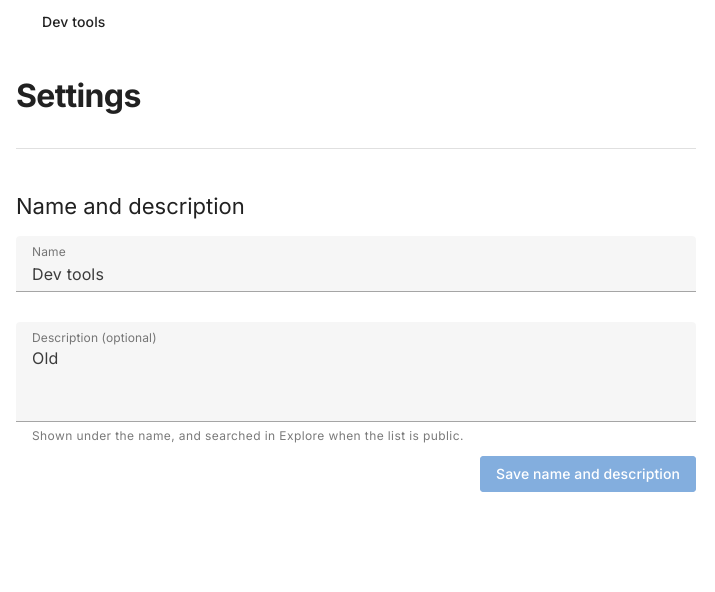
Test: ListSettingsView › explains a save refused because the list changed meanwhile
This screenshot has width=715, height=592.
Replace the text in the text box labelled "Description (optional)" with "Mine" at {"x": 356, "y": 372}, box [16,322,696,422]
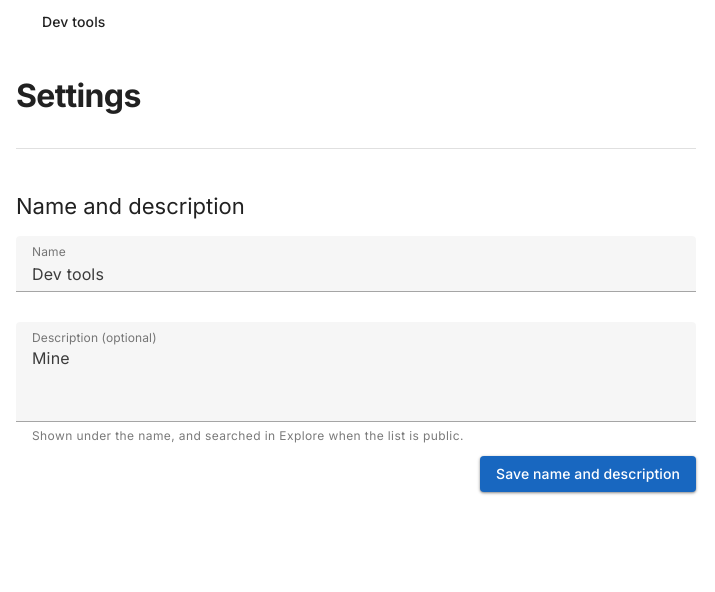
Submit the form, box [16,236,696,492]
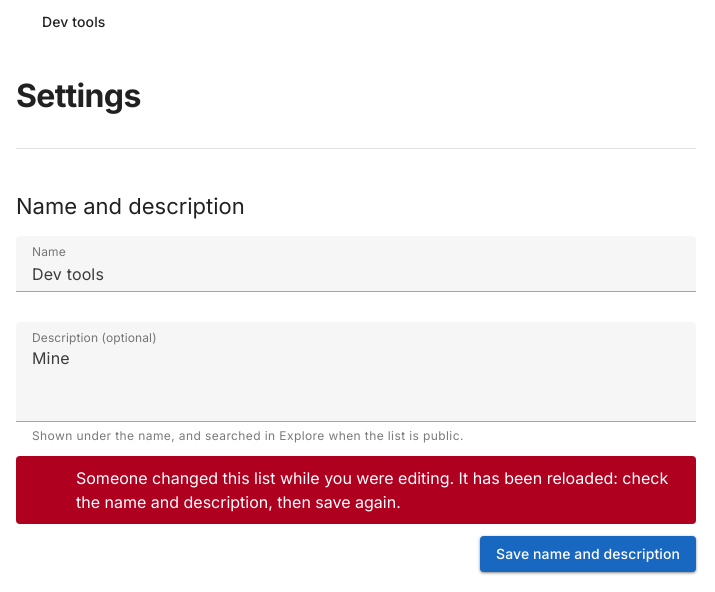
Check: the text "Someone changed this list while you were editing" is shown, box [76,468,668,512]
